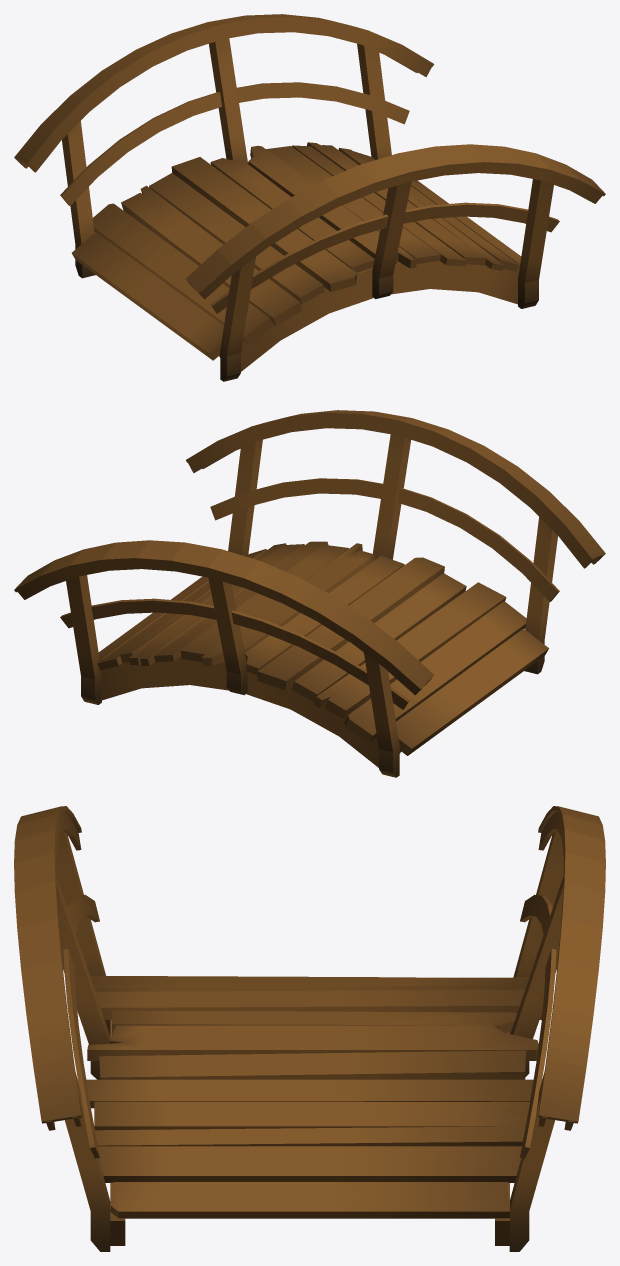
Rendered from RoadBridgeSml-01.FBX.
The picture shows the model from 3 angles, top to bottom: view 1: azimuth 30°, elevation 25°; view 2: azimuth 150°, elevation 25°; view 3: azimuth 270°, elevation 25°; orthographic projection. The views are drawn at different scales.
Parts seen in each view (by area): view 1: RoadBridgeSml-01; view 2: RoadBridgeSml-01; view 3: RoadBridgeSml-01.
Boxes of the visible parts, x1,y1,x2,y2 form: RoadBridgeSml-01: (14, 14, 605, 381); RoadBridgeSml-01: (14, 410, 605, 777); RoadBridgeSml-01: (14, 806, 605, 1251).
Bounding box in the file's own units: 340 × 161 × 296.
1 material, 1 textured.
